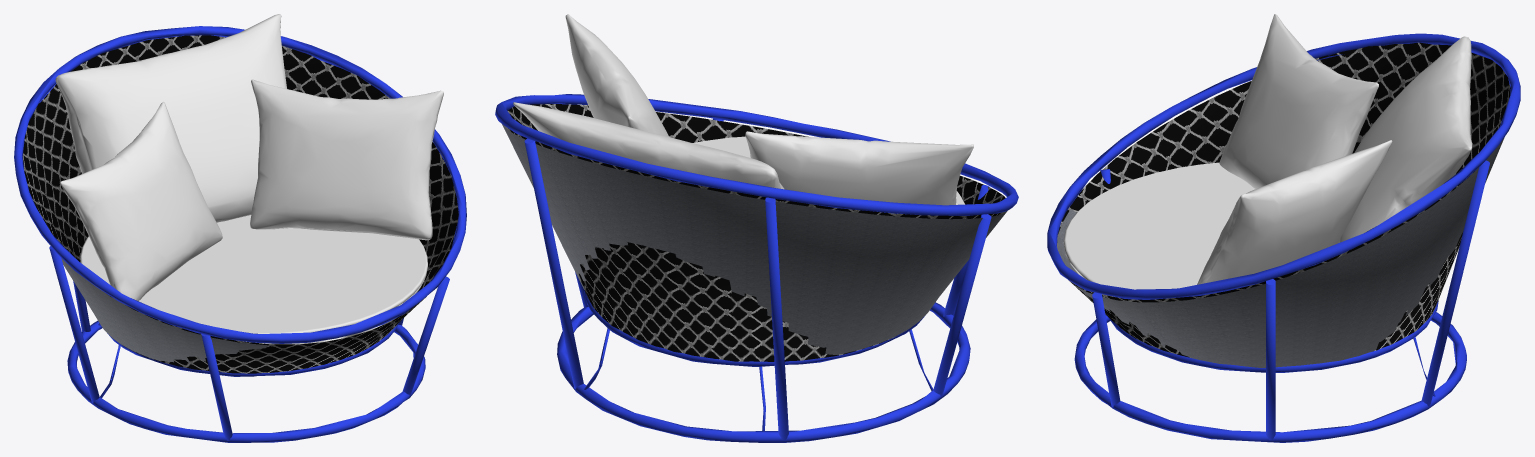
The model's file is sofa-modelo-cadeira-rede.glb.
3 views of the same model, side by side, from view 1: azimuth 30°, elevation 25°; view 2: azimuth 150°, elevation 25°; view 3: azimuth 270°, elevation 25° (orthographic). The views are drawn at different scales.
Visible parts, largest first — view 1: Modelo Cadeira Rede; view 2: Modelo Cadeira Rede; view 3: Modelo Cadeira Rede.
Part boxes in pixels (x1,y1,x2,y2): Modelo Cadeira Rede: (14,14,466,442); Modelo Cadeira Rede: (495,14,1018,442); Modelo Cadeira Rede: (1047,14,1520,442).
Bounding box in the file's own units: 1.42 × 0.8835 × 1.35.
5 materials, 2 textured.
